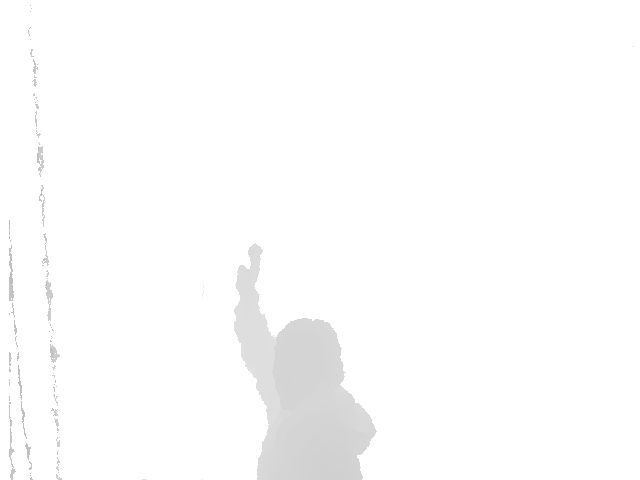hand: (232, 242, 268, 298)
head: (272, 313, 346, 407)
person: (232, 243, 380, 480)
